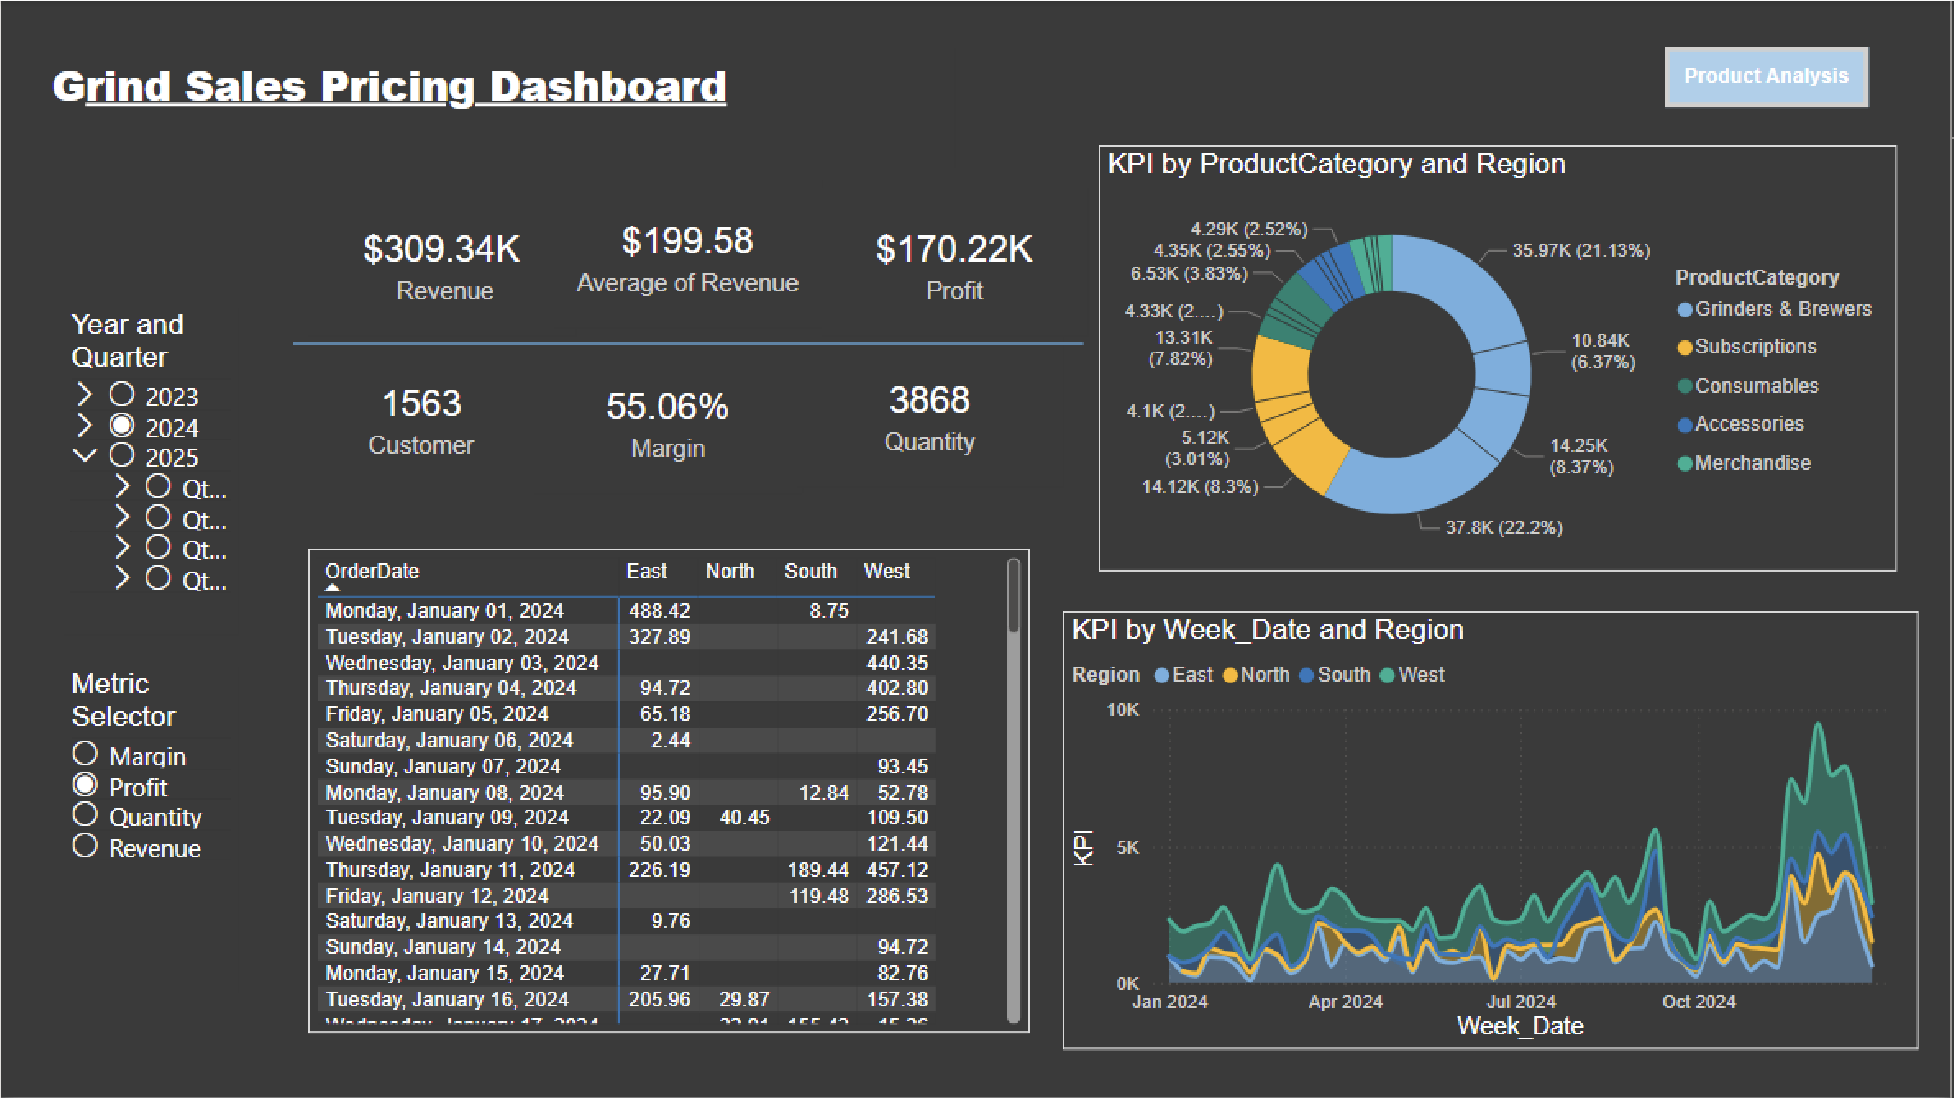

The dashboard page shown, as its layout file describes it:
{"tool":"powerbi","page":{"name":"Page 1","canvas":[1280,720],"ordinal":0},"visuals":[{"type":"donutChart","fields":{"Category":["Query1.ProductCategory"],"Series":["Query1.Region"],"Y":["Query1.KPI"]},"box":[720.8,94.8,523.6,280.1],"z":0},{"type":"stackedAreaChart","fields":{"Series":["Query1.Region"],"Category":["Query1.Week_Date"],"Y":["Query1.KPI"]},"box":[697.1,400.8,562.4,287.7],"z":1000},{"type":"pivotTable","fields":{"Values":["Query1.KPI"],"Rows":["Query1.OrderDate"],"Columns":["Query1.Region"]},"box":[201.5,359.9,474.1,317.8],"z":2000},{"type":"card","fields":{"Values":["Sum(Query1.Revenue)"]},"box":[201.5,122.8,175.6,98],"z":3000},{"type":"card","fields":{"Values":["Avg(Query1.Revenue)"]},"box":[363.1,117.4,175.6,98],"z":4000},{"type":"card","fields":{"Values":["Sum(Query1.Profit)"]},"box":[538.7,122.8,174.5,98],"z":5000},{"type":"card","fields":{"Values":["CountNonNull(Query1.CustomerID)"]},"box":[188.6,225.2,174.5,94.8],"z":6000},{"type":"card","fields":{"Values":["Query1.Margin"]},"box":[350.2,225.2,175.6,99.1],"z":7000},{"type":"card","fields":{"Values":["Sum(Query1.Quantity)"]},"box":[522.6,220.9,174.5,99.1],"z":8000},{"type":"shape","box":[191.8,190.7,519.3,69],"z":9000},{"type":"listSlicer","fields":{"Values":["Query1.OrderDate.Variation.Date Hierarchy.Year","Query1.OrderDate.Variation.Date Hierarchy.Quarter","Query1.OrderDate.Variation.Date Hierarchy.Month","Query1.OrderDate.Variation.Date Hierarchy.Day"]},"box":[40.9,201.5,115.3,215.5],"z":10000},{"type":"listSlicer","fields":{"Values":["Metric selector.Metric Selector"]},"box":[40.9,437.4,115.3,214.4],"z":11000},{"type":"textbox","box":[28,31.2,598,77.6],"z":12000},{"type":"actionButton","box":[1092.5,30.2,133.6,39.9],"z":12001}]}

Visuals, with their boxes in screenshot pixels (x1, y1, x2, y2), scaled from the page's 1280x720 canvas onto the 1954x1098 screenshot:
donutChart - Query1.ProductCategory x Query1.Region: crop(1100, 145, 1900, 572)
stackedAreaChart - Query1.Region x Query1.Week_Date: crop(1064, 611, 1923, 1050)
pivotTable - Query1.KPI x Query1.OrderDate: crop(308, 549, 1031, 1033)
card - Sum(Query1.Revenue): crop(308, 187, 576, 337)
card - Avg(Query1.Revenue): crop(554, 179, 822, 328)
card - Sum(Query1.Profit): crop(822, 187, 1089, 337)
card - CountNonNull(Query1.CustomerID): crop(288, 343, 554, 488)
card - Query1.Margin: crop(535, 343, 803, 495)
card - Sum(Query1.Quantity): crop(798, 337, 1064, 488)
shape: crop(293, 291, 1086, 396)
listSlicer - Query1.OrderDate.Variation.Date Hierarchy.Year x Query1.OrderDate.Variation.Date Hierarchy.Quarter: crop(62, 307, 238, 636)
listSlicer - Metric selector.Metric Selector: crop(62, 667, 238, 994)
textbox: crop(43, 48, 956, 166)
actionButton: crop(1668, 46, 1872, 107)
